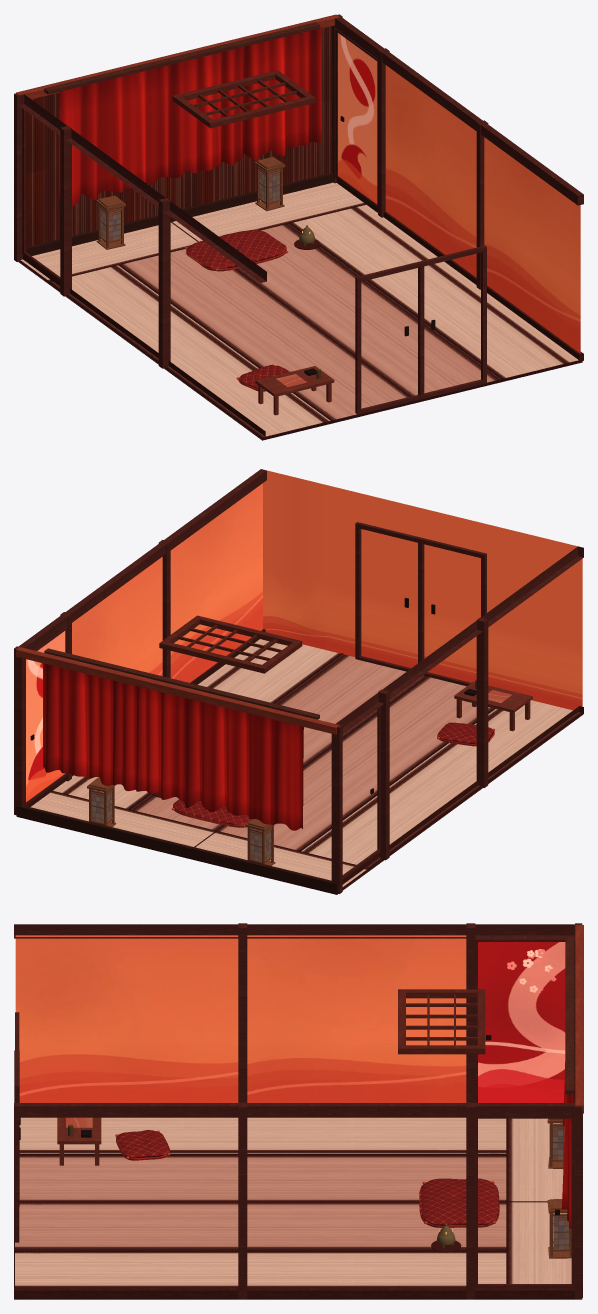
Rendered from haunted-mansion-room-1.glb.
3 views of the same model, one above another, from view 1: azimuth 30°, elevation 25°; view 2: azimuth 150°, elevation 25°; view 3: azimuth 270°, elevation 25° (orthographic). The views are drawn at different scales.
Size of the model in its own units: 4.92 by 2.45 by 6.45.
Materials: 38 (31 with a texture image).
